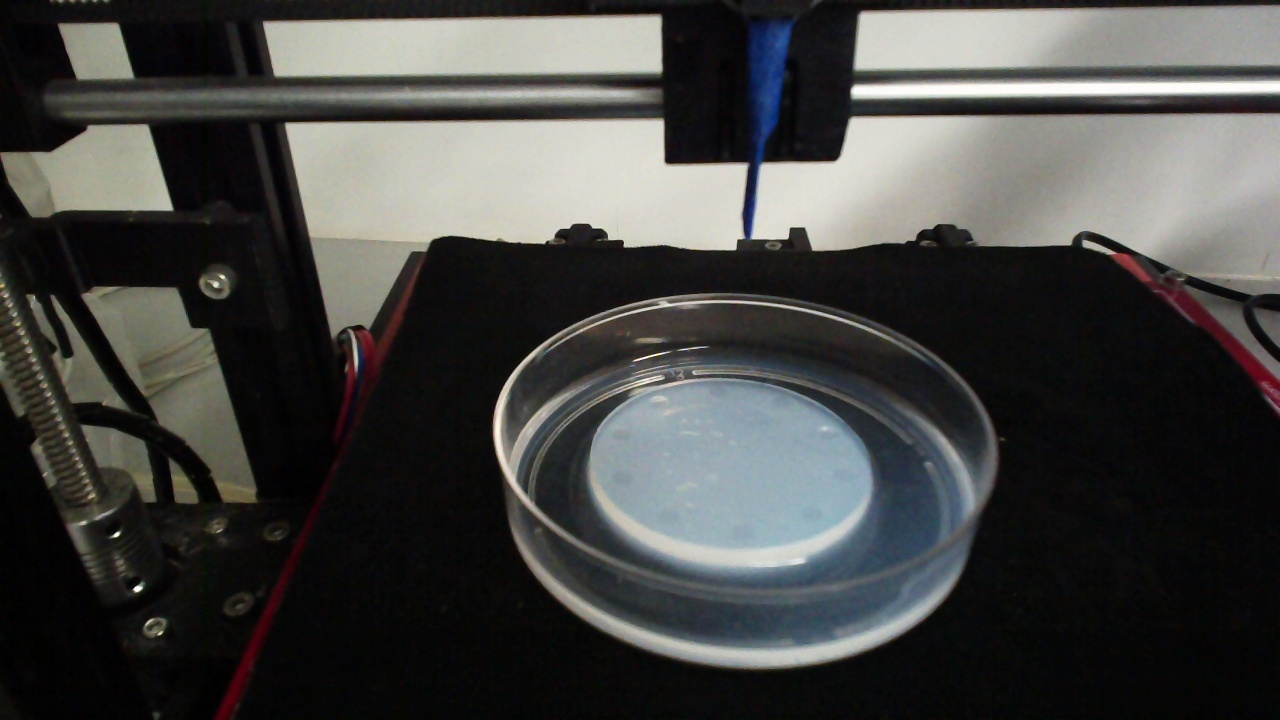groove: (656, 506, 681, 526), (798, 505, 824, 523), (730, 523, 754, 542), (611, 467, 634, 486), (832, 466, 857, 483), (816, 424, 839, 441), (771, 393, 793, 410), (610, 426, 631, 443), (707, 384, 729, 399), (648, 393, 669, 408)
needle: (741, 23, 791, 240)
